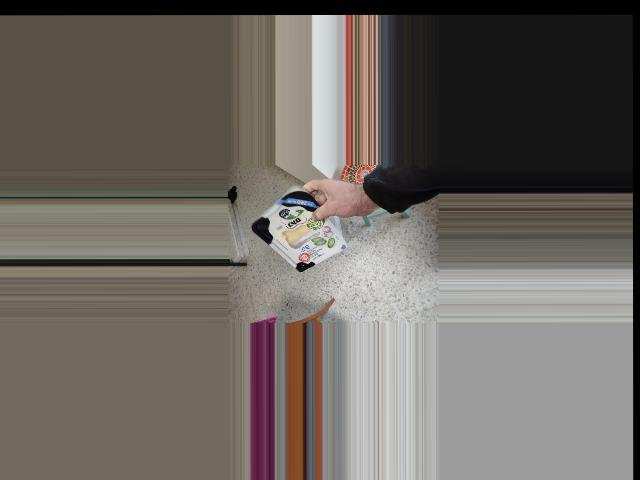cheese: (264, 167, 333, 277)
